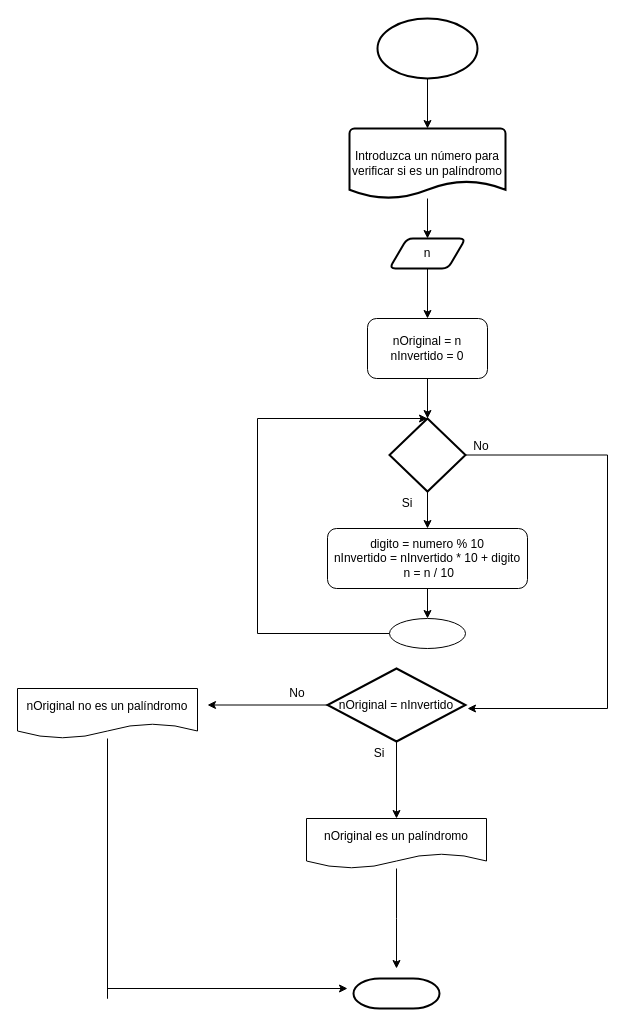
Some shapes in this 633 by 1026 pixel diagram are drawn without their labels. The shapes that lost their labels are listed below. From the top down, each one's centre as x and y in pixels, then its label:
At (x=427, y=48): "Inicio".
At (x=427, y=454): "n > 0".
At (x=427, y=633): "Retorno".
At (x=396, y=993): "FIN".
